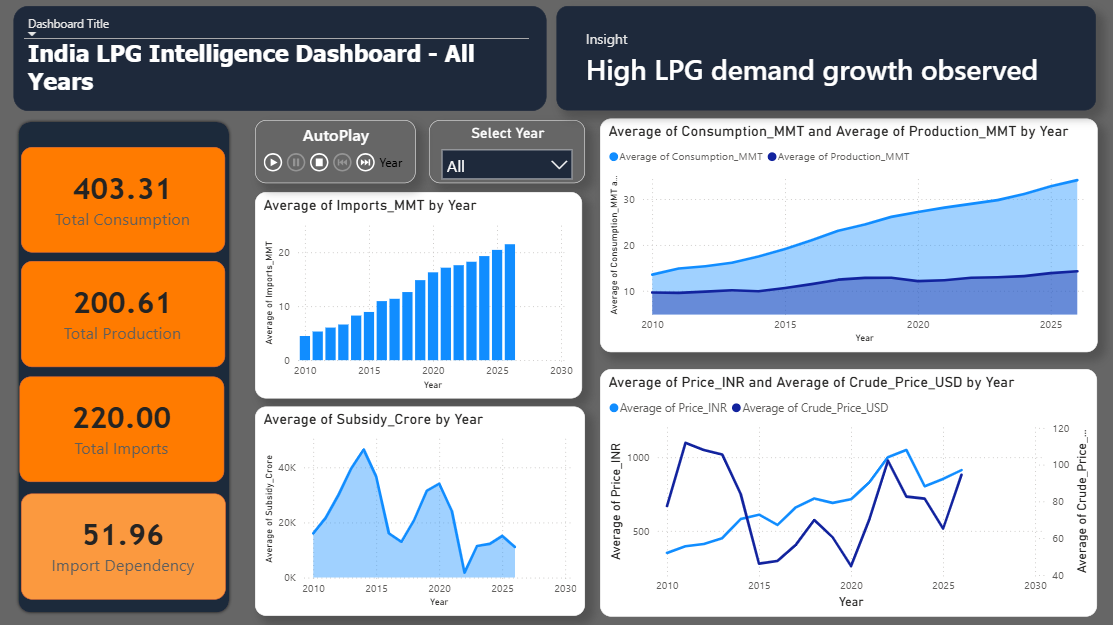

This screenshot's page, from the dashboard's own definition file:
{"tool":"powerbi","page":{"name":"Page 1","canvas":[1280,720],"ordinal":0},"visuals":[{"type":"shape","box":[16.7,136.7,250,571.7],"z":0},{"type":"slicer","title":"Select Year","fields":{"Values":["final_lpg_dataset.Year"]},"box":[493.2,137.3,179.7,72.9],"z":1000},{"type":"cardVisual","fields":{"Data":["final_lpg_dataset.Total Consumption"]},"box":[29.3,160.3,222.4,101.7],"z":2000},{"type":"cardVisual","fields":{"Data":["final_lpg_dataset.Total Production"]},"box":[29.3,289.7,222.4,101.7],"z":3000},{"type":"cardVisual","fields":{"Data":["final_lpg_dataset.Total Imports"]},"box":[29.3,424.1,222.4,101.7],"z":4000},{"type":"cardVisual","fields":{"Data":["final_lpg_dataset.Import Dependency"]},"box":[29.3,553.4,222.4,101.7],"z":5000},{"type":"areaChart","fields":{"Category":["final_lpg_dataset.Year"],"Y":["Avg(final_lpg_dataset.Consumption_MMT)","Avg(final_lpg_dataset.Production_MMT)"]},"box":[690,136.7,571.7,268.3],"z":6000},{"type":"clusteredColumnChart","fields":{"Category":["final_lpg_dataset.Year"],"Y":["Avg(final_lpg_dataset.Imports_MMT)"]},"box":[293.2,220.3,376.3,237.3],"z":7000},{"type":"areaChart","fields":{"Category":["final_lpg_dataset.Year"],"Y":["Avg(final_lpg_dataset.Subsidy_Crore)"]},"box":[293.2,467.8,379.7,240.7],"z":8000},{"type":"PBI_CV_16948668_E17D_454B_8664_2F2C470EA8C1","title":"AutoPlay","fields":{"category":["final_lpg_dataset.Year"]},"box":[293.2,137.3,184.7,72.9],"z":9000},{"type":"cardVisual","fields":{"Data":["final_lpg_dataset.Insight"]},"box":[640,7.5,620,120],"z":10000},{"type":"tableEx","fields":{"Values":["final_lpg_dataset.Dashboard Title"]},"box":[15.8,6.7,612.5,120.8],"z":11000},{"type":"lineChart","fields":{"Category":["final_lpg_dataset.Year"],"Y":["Avg(final_lpg_dataset.Price_INR)"],"Y2":["Avg(final_lpg_dataset.Crude_Price_USD)"]},"box":[689.8,423.7,571.2,284.7],"z":12000},{"type":"image","box":[193.1,160.3,58.6,70.7],"z":13000},{"type":"image","box":[193.1,289.7,58.6,70.7],"z":14000},{"type":"image","box":[193.1,424.1,58.6,70.7],"z":15000},{"type":"image","box":[193.1,553.4,58.6,70.7],"z":16000}]}

Visuals, with their boxes in screenshot pixels (x1, y1, x2, y2), scaled from the page's 1280x720 canvas onto the 1113x625 screenshot:
shape: BBox(15, 119, 232, 615)
"Select Year" slicer: BBox(429, 119, 585, 182)
cardVisual - final_lpg_dataset.Total Consumption: BBox(25, 139, 219, 227)
cardVisual - final_lpg_dataset.Total Production: BBox(25, 251, 219, 340)
cardVisual - final_lpg_dataset.Total Imports: BBox(25, 368, 219, 456)
cardVisual - final_lpg_dataset.Import Dependency: BBox(25, 480, 219, 569)
areaChart - final_lpg_dataset.Year x Avg(final_lpg_dataset.Consumption_MMT): BBox(600, 119, 1097, 352)
clusteredColumnChart - final_lpg_dataset.Year x Avg(final_lpg_dataset.Imports_MMT): BBox(255, 191, 582, 397)
areaChart - final_lpg_dataset.Year x Avg(final_lpg_dataset.Subsidy_Crore): BBox(255, 406, 585, 615)
"AutoPlay" PBI_CV_16948668_E17D_454B_8664_2F2C470EA8C1: BBox(255, 119, 416, 182)
cardVisual - final_lpg_dataset.Insight: BBox(556, 7, 1096, 111)
tableEx - final_lpg_dataset.Dashboard Title: BBox(14, 6, 546, 111)
lineChart - final_lpg_dataset.Year x Avg(final_lpg_dataset.Price_INR): BBox(600, 368, 1096, 615)
image: BBox(168, 139, 219, 201)
image: BBox(168, 251, 219, 313)
image: BBox(168, 368, 219, 430)
image: BBox(168, 480, 219, 542)
